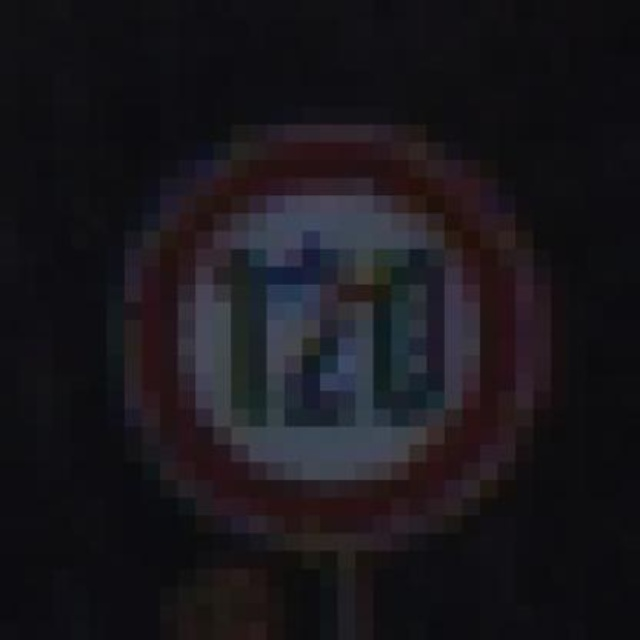Tốc độ tối đa cho phép 120km/h: (137, 133, 529, 543)
